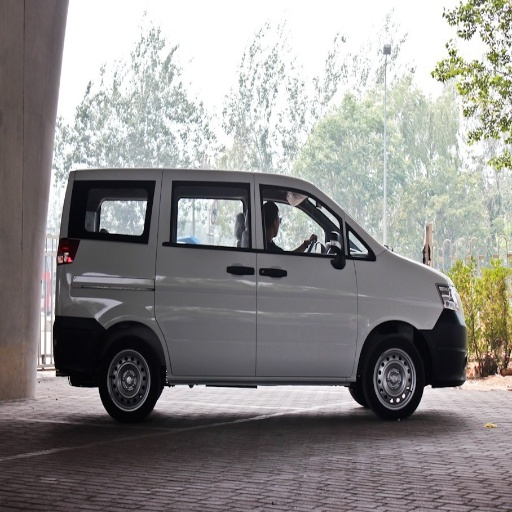front_right_door: (255, 177, 369, 374)
trunk: (53, 260, 169, 366)
